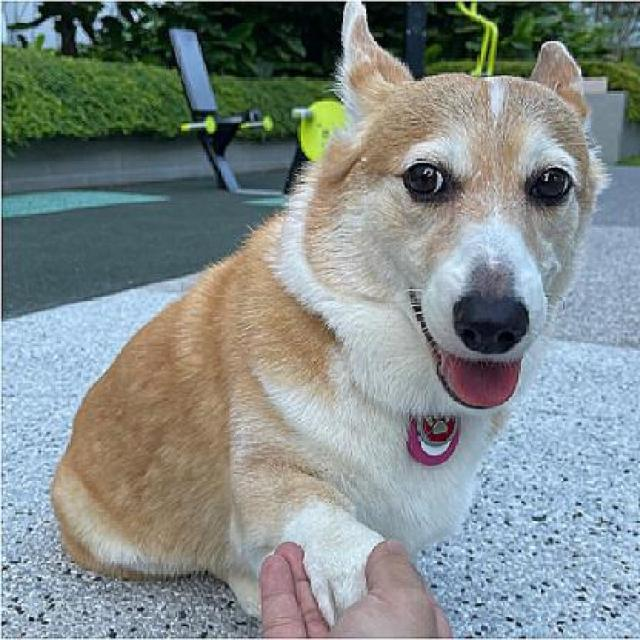Dog: (49, 1, 614, 638)
